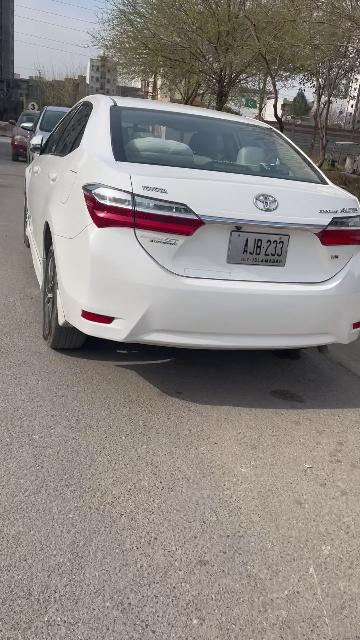plate: (227, 231, 291, 268)
